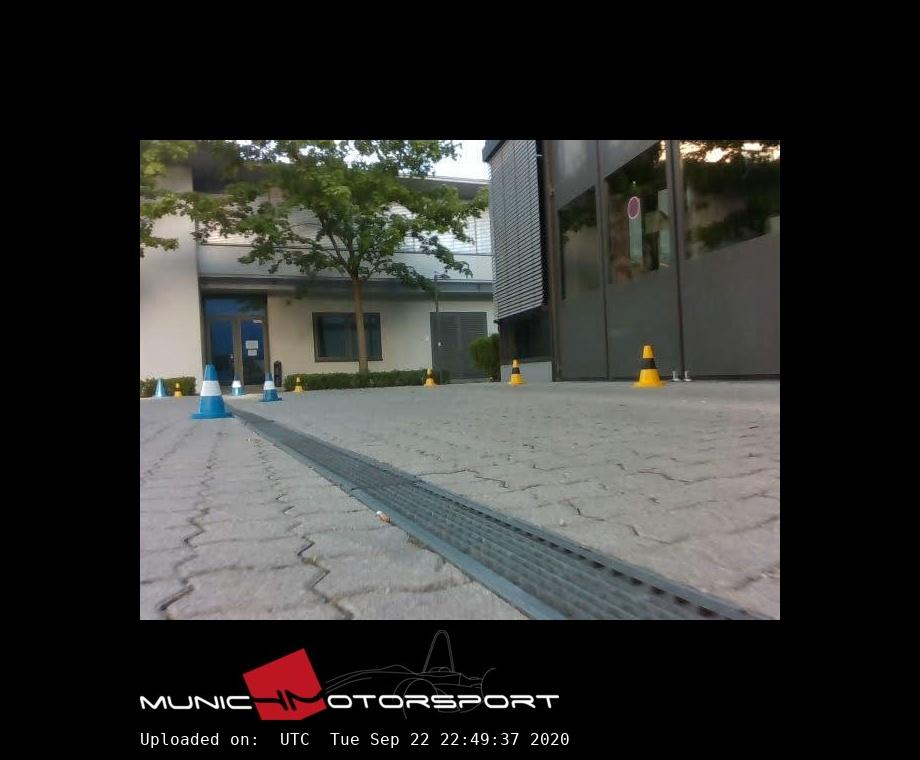blue_cone: (190, 365, 235, 419), (258, 374, 283, 402), (229, 377, 246, 396), (153, 379, 167, 396)
yellow_cone: (633, 346, 665, 387), (508, 361, 523, 384), (423, 369, 437, 387), (172, 383, 184, 397), (293, 378, 304, 393)
